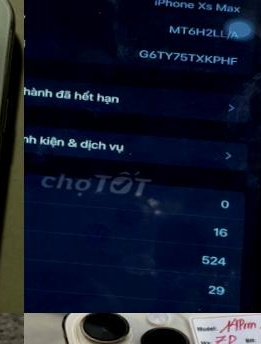scratch: (250, 203, 261, 246)
